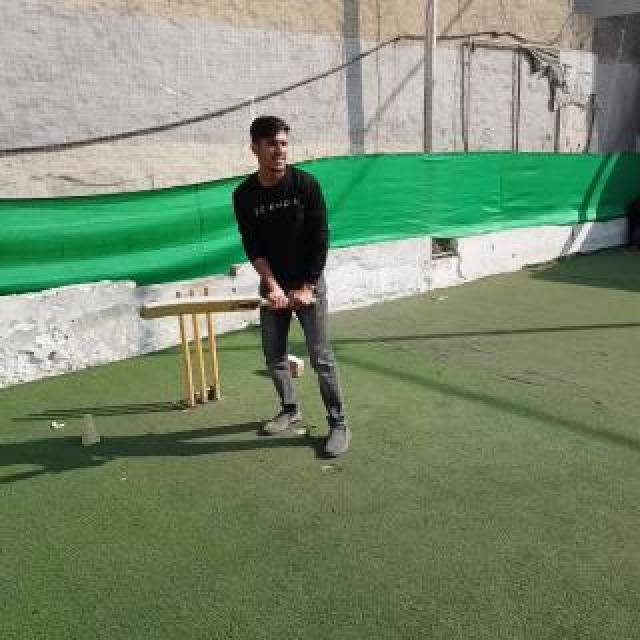bat: (140, 296, 318, 320)
